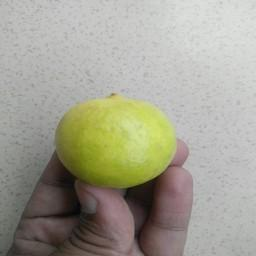Good_lime: (48, 87, 181, 190)
